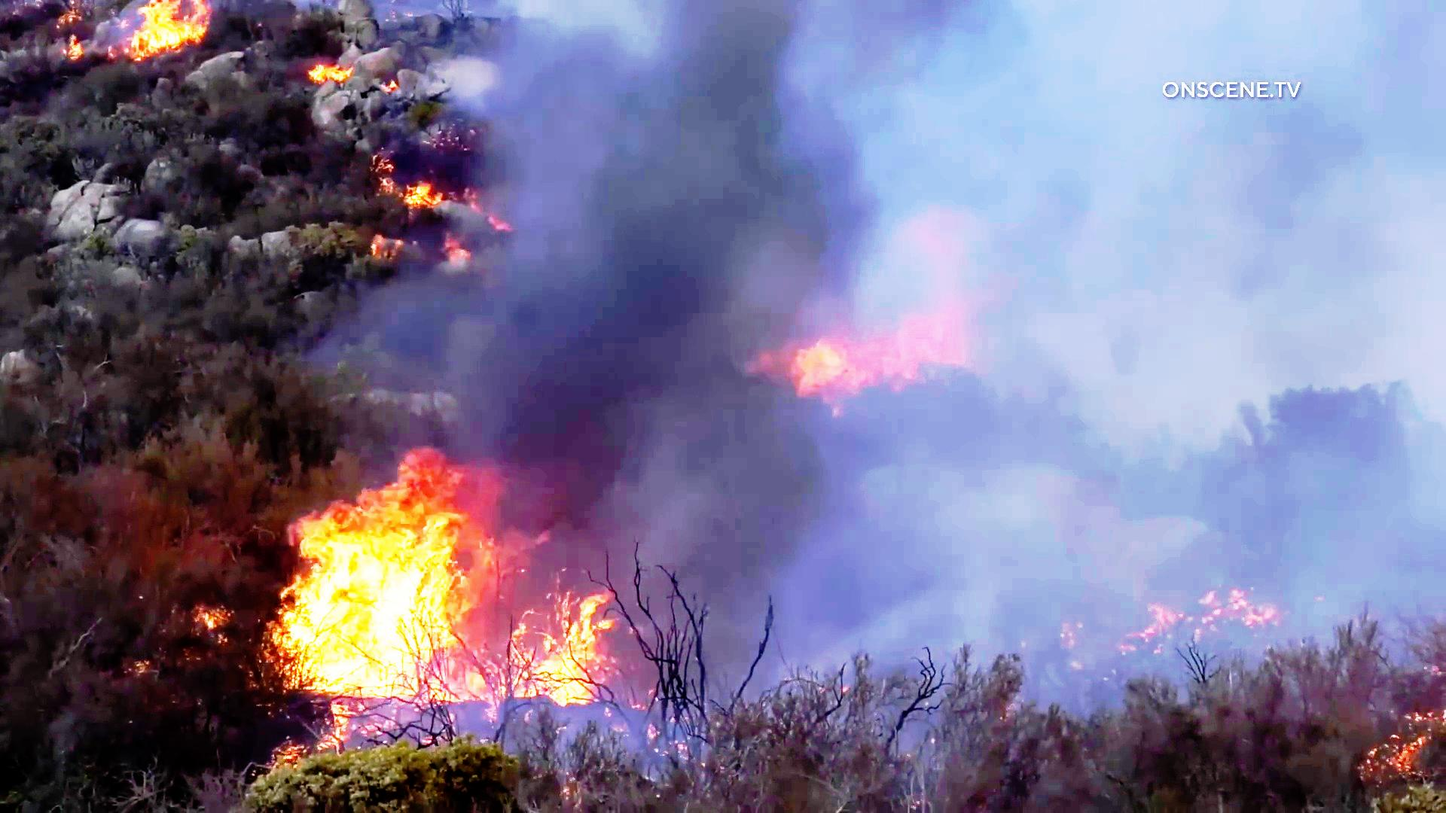smoke: (616, 4, 1126, 288), (1129, 157, 1435, 550), (265, 477, 516, 709)
